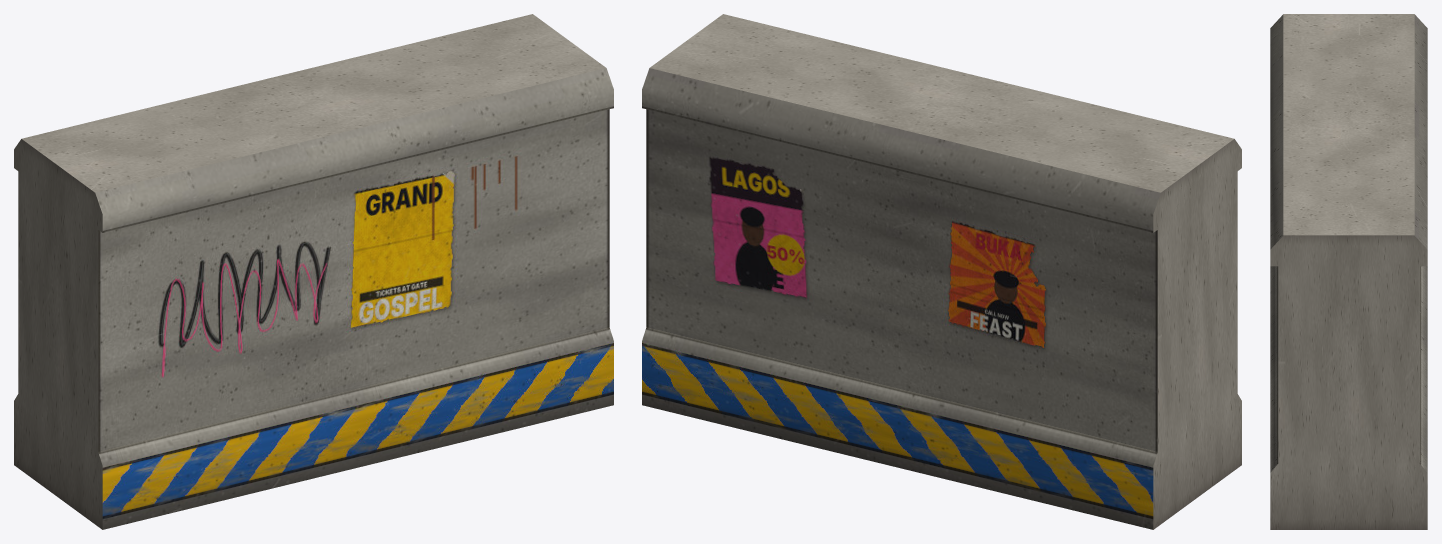
The model's file is env_wall_b.glb.
3 views of the same model, side by side, from view 1: azimuth 30°, elevation 25°; view 2: azimuth 150°, elevation 25°; view 3: azimuth 270°, elevation 25° (orthographic). The views are drawn at different scales.
Parts seen in each view (by area): view 1: env_wall_b_body; view 2: env_wall_b_body; view 3: env_wall_b_body.
Part boxes in pixels (x1,y1,x2,y2): env_wall_b_body: [14, 14, 613, 529]; env_wall_b_body: [642, 14, 1241, 529]; env_wall_b_body: [1270, 14, 1427, 529].
Bounding box in the file's own units: 1 × 0.62 × 0.3.
Materials: 1 (1 with a texture image).
